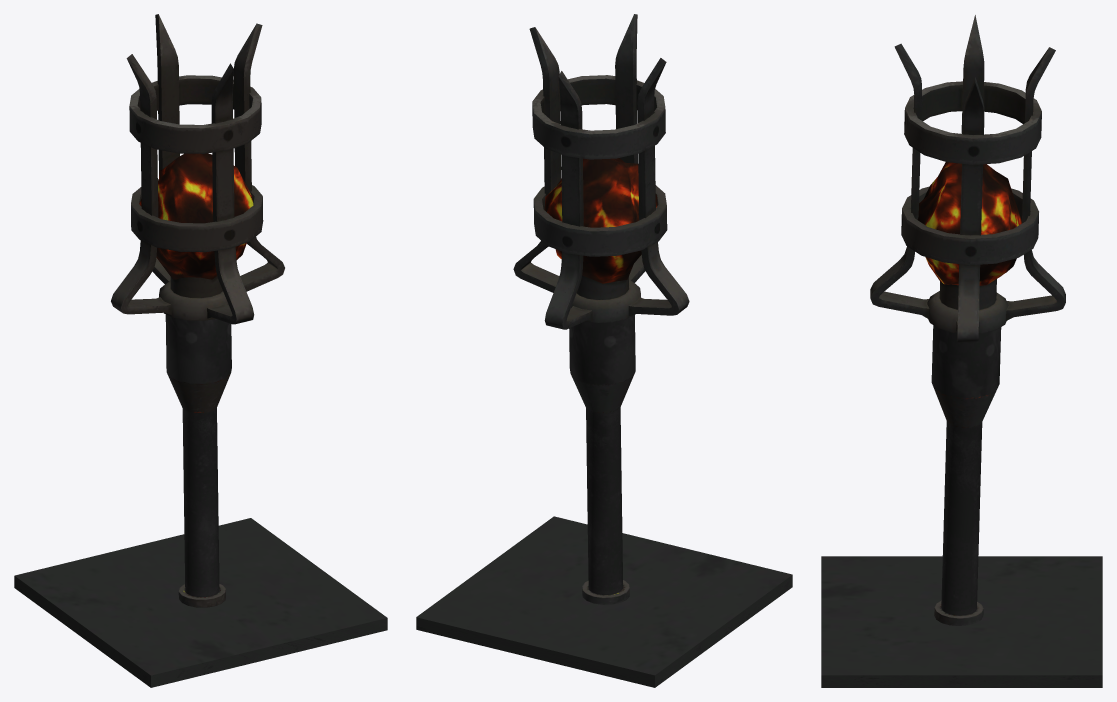
File: standtorch_b.obj
3 views of the same model, side by side, from view 1: azimuth 30°, elevation 25°; view 2: azimuth 150°, elevation 25°; view 3: azimuth 270°, elevation 25° (orthographic). The views are drawn at different scales.
Visible parts, largest first — view 1: torch_2_Mat_0, Cube_Cube.001; view 2: torch_2_Mat_0, Cube_Cube.001; view 3: torch_2_Mat_0, Cube_Cube.001.
Part boxes in pixels (box(x1,y1,x2,y2)): torch_2_Mat_0: box(111, 14, 284, 607); Cube_Cube.001: box(14, 518, 387, 687); torch_2_Mat_0: box(513, 14, 689, 604); Cube_Cube.001: box(416, 516, 792, 687); torch_2_Mat_0: box(870, 15, 1065, 625); Cube_Cube.001: box(821, 556, 1102, 687).
Bounding box in the file's own units: 0.2 × 0.4583 × 0.2.
1 material, 1 textured.
